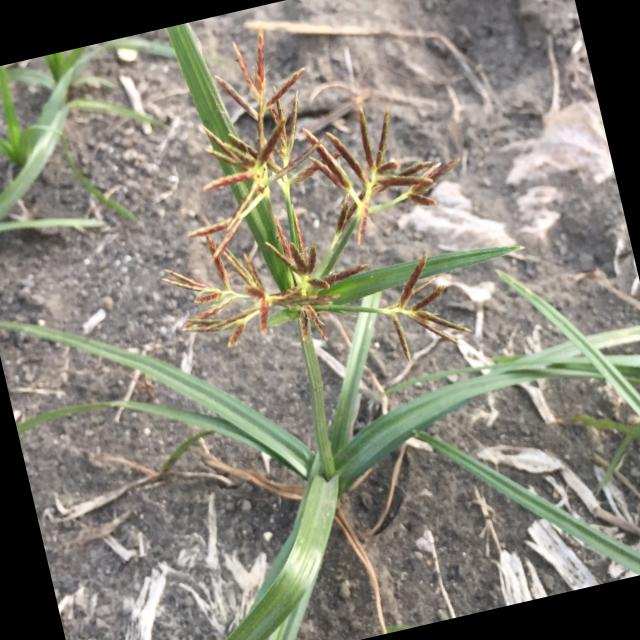cyperus: (109, 0, 502, 431)
